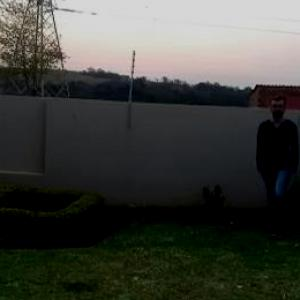follow: (243, 98, 299, 223)
